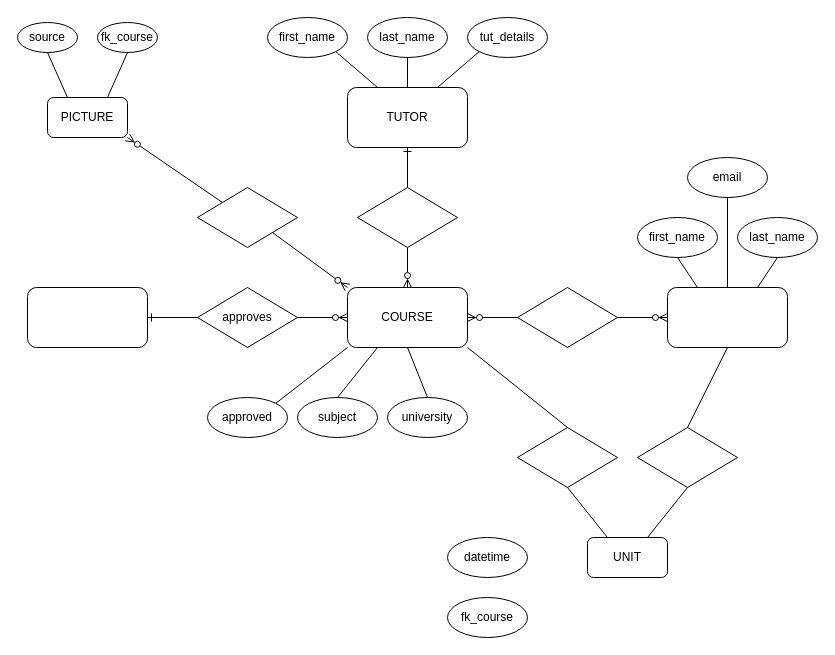
Image size: 835x655. Some labels were removed from this diagram. Here are the shapes that lost their labels. From the top down, the centre of each, then its label:
At point 247,217: "illustrates".
At point 407,217: "offers".
At point 87,317: "ADMIN".
At point 567,317: "books + reviews".
At point 727,317: "STUDENT".
At point 567,457: "devides into".
At point 687,457: "attends".
